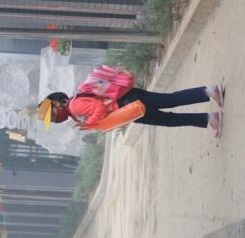person: (36, 66, 225, 138)
